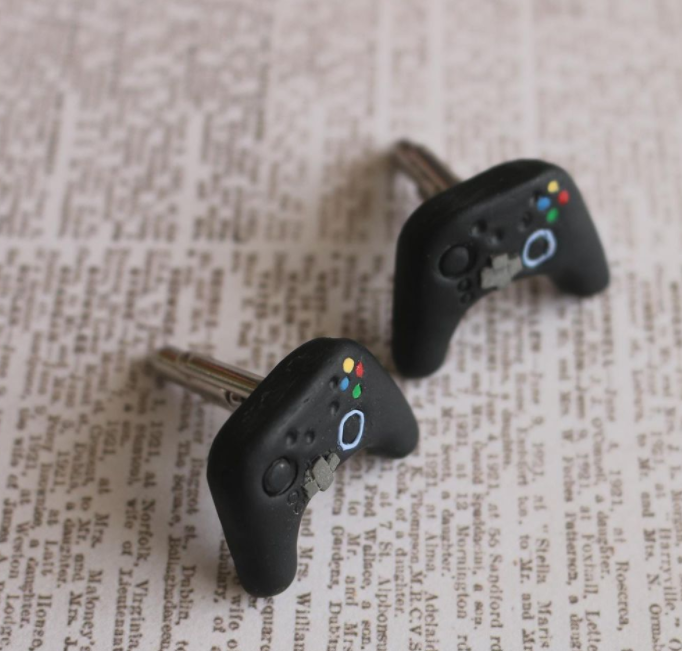gamingconsole: (208, 337, 420, 597), (390, 160, 611, 376)
